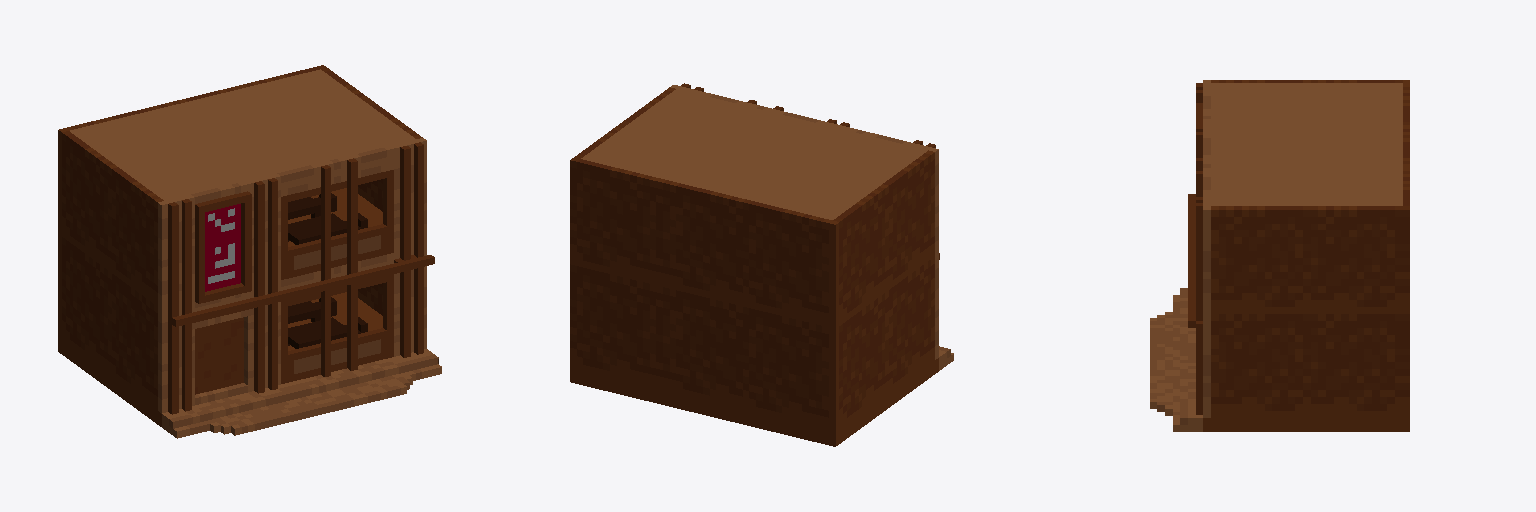
3 views of the same model, side by side, from view 1: azimuth 30°, elevation 25°; view 2: azimuth 150°, elevation 25°; view 3: azimuth 270°, elevation 25° (orthographic).
Parts seen in each view (by area): view 1: object 1; view 2: object 1; view 3: object 1.
Boxes of the visible parts, x1=… form: object 1: x1=58, y1=65, x2=441, y2=438; object 1: x1=570, y1=83, x2=953, y2=446; object 1: x1=1150, y1=80, x2=1409, y2=431.
Size of the model in its own units: 4 by 3.2 by 3.4.
1 materials, 1 textured.